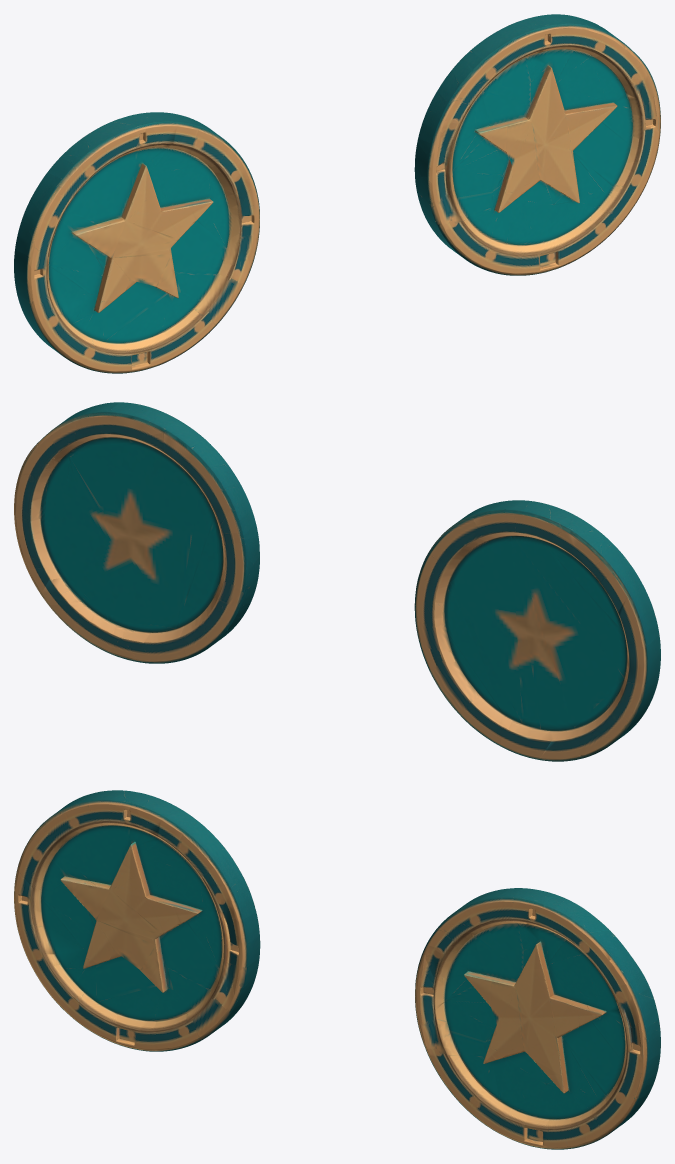
The model's file is coin.d428070e.glb.
The picture shows the model from 3 angles, top to bottom: view 1: azimuth 30°, elevation 25°; view 2: azimuth 150°, elevation 25°; view 3: azimuth 330°, elevation 25°; orthographic projection.
Visible parts, largest first — view 1: output_unwrapped; view 2: output_unwrapped; view 3: output_unwrapped.
Part boxes in pixels (x1=…): output_unwrapped: x1=14, y1=14, x2=660, y2=373; output_unwrapped: x1=14, y1=402, x2=660, y2=761; output_unwrapped: x1=14, y1=790, x2=660, y2=1149.
Size of the model in its own units: 1.9 by 0.705 by 0.0814.
Materials: 1 (1 with a texture image).
